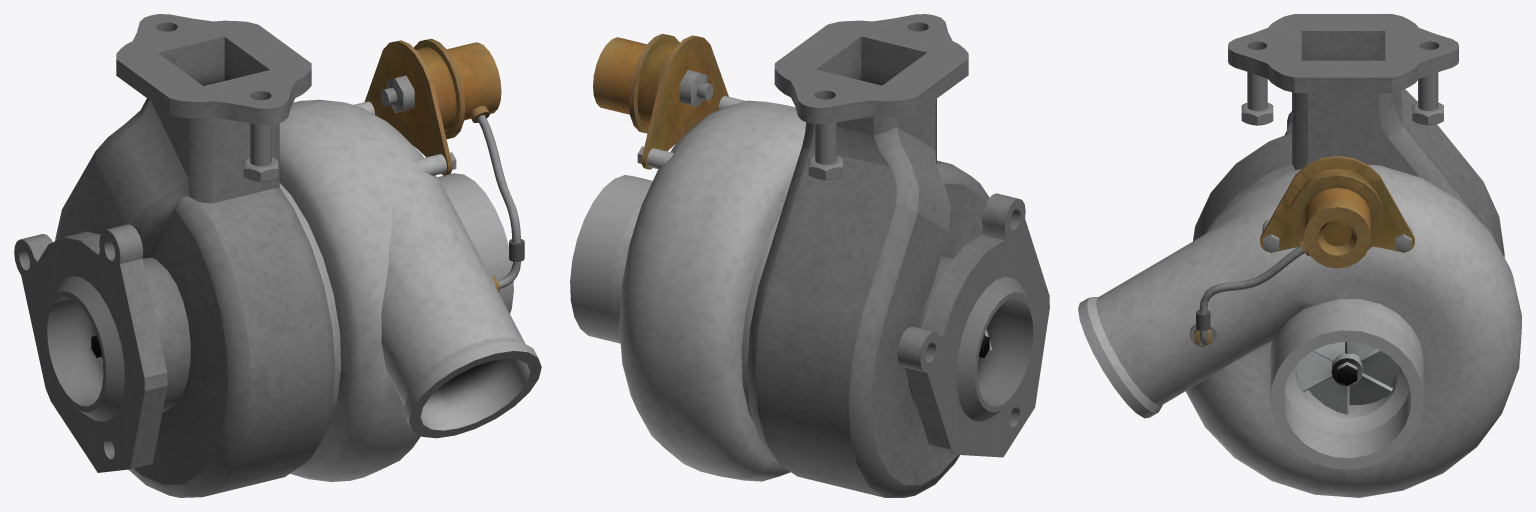
Rendered from turbo.glb.
3 views of the same model, side by side, from view 1: azimuth 30°, elevation 25°; view 2: azimuth 150°, elevation 25°; view 3: azimuth 270°, elevation 25° (orthographic). The views are drawn at different scales.
Visible parts, largest first — view 1: turbo_2(0), Obj_srubaSilnik_0; view 2: turbo_2(0), srubaSilnik_0; view 3: turbo_2(0), Obj_srubaSilnik_0, srubaSilnik_0.
Boxes of the visible parts, x1,y1,x2,y2 form: turbo_2(0): [14, 14, 541, 497]; Obj_srubaSilnik_0: [243, 123, 278, 182]; turbo_2(0): [570, 14, 1049, 497]; srubaSilnik_0: [808, 122, 842, 180]; turbo_2(0): [1078, 14, 1521, 497]; Obj_srubaSilnik_0: [1241, 72, 1273, 125]; srubaSilnik_0: [1412, 72, 1443, 125].
Size of the model in its own units: 0.00376 by 0.00385 by 0.00391.
Materials: 2 (1 with a texture image).
